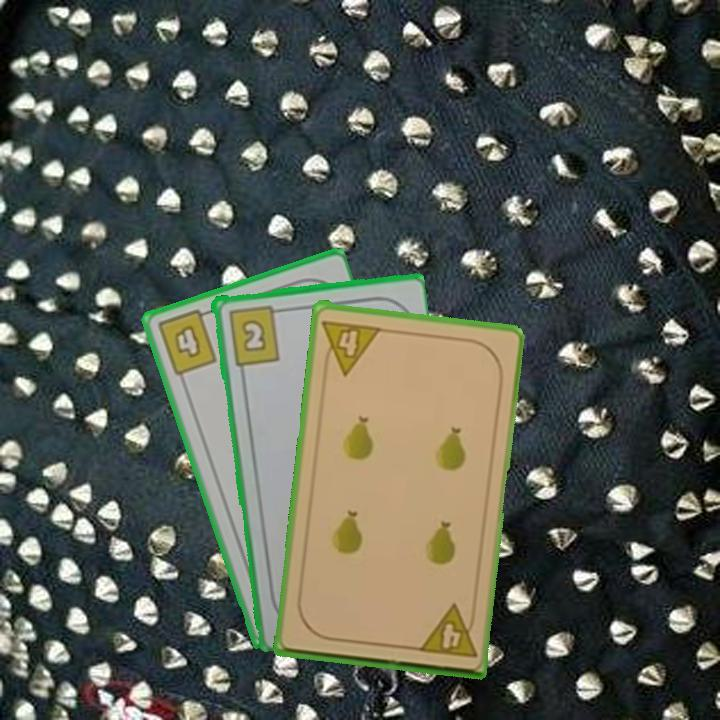2b: (224, 301, 286, 368)
4b: (153, 305, 220, 379)
4p: (319, 316, 384, 377), (414, 601, 480, 661)
